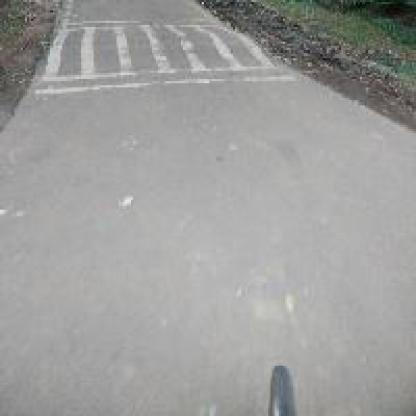Speed Bump: (41, 16, 274, 94)
